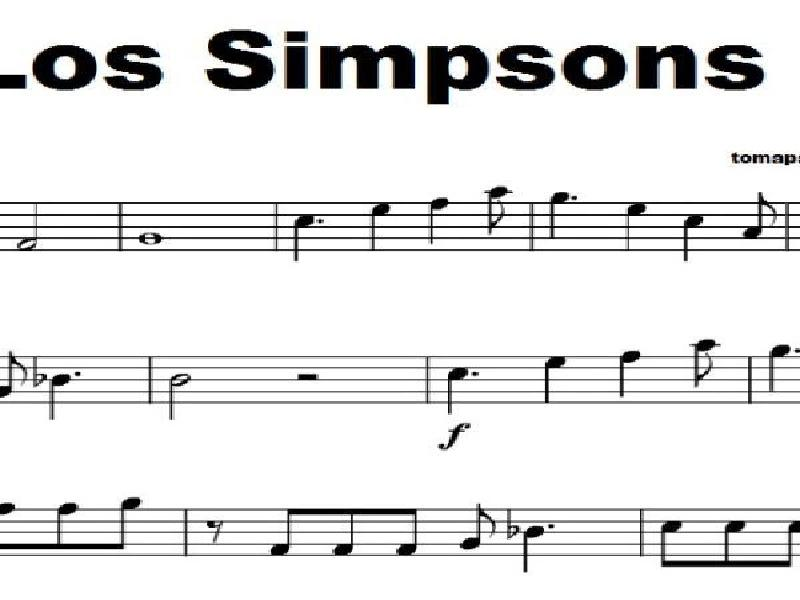B: (16, 201, 42, 254), (166, 372, 192, 423)
Bem: (505, 507, 522, 542), (30, 353, 45, 392)
C: (460, 504, 497, 555), (745, 191, 778, 244), (116, 492, 143, 553), (49, 505, 79, 559), (659, 514, 682, 571), (331, 506, 356, 558), (398, 506, 421, 561), (693, 334, 716, 389), (271, 504, 292, 557), (486, 183, 507, 231)
N: (720, 515, 746, 575), (612, 347, 640, 397), (368, 201, 393, 256), (288, 210, 315, 260), (678, 214, 703, 265), (542, 358, 570, 403), (445, 366, 471, 414), (624, 199, 646, 249), (523, 525, 544, 577), (770, 343, 790, 397), (428, 196, 449, 247), (50, 372, 71, 420), (549, 192, 569, 239)
P: (317, 216, 327, 227), (548, 522, 557, 530)
R: (138, 230, 164, 249)
SB: (292, 368, 326, 387)
